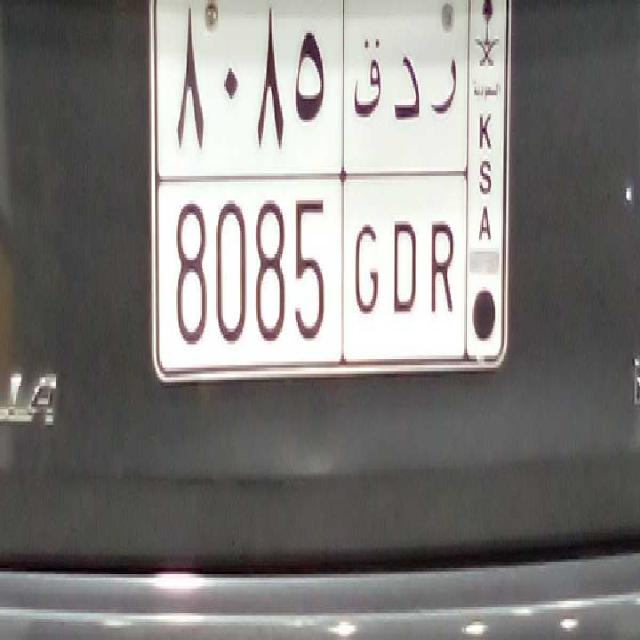license_plate: (160, 175, 468, 366)
